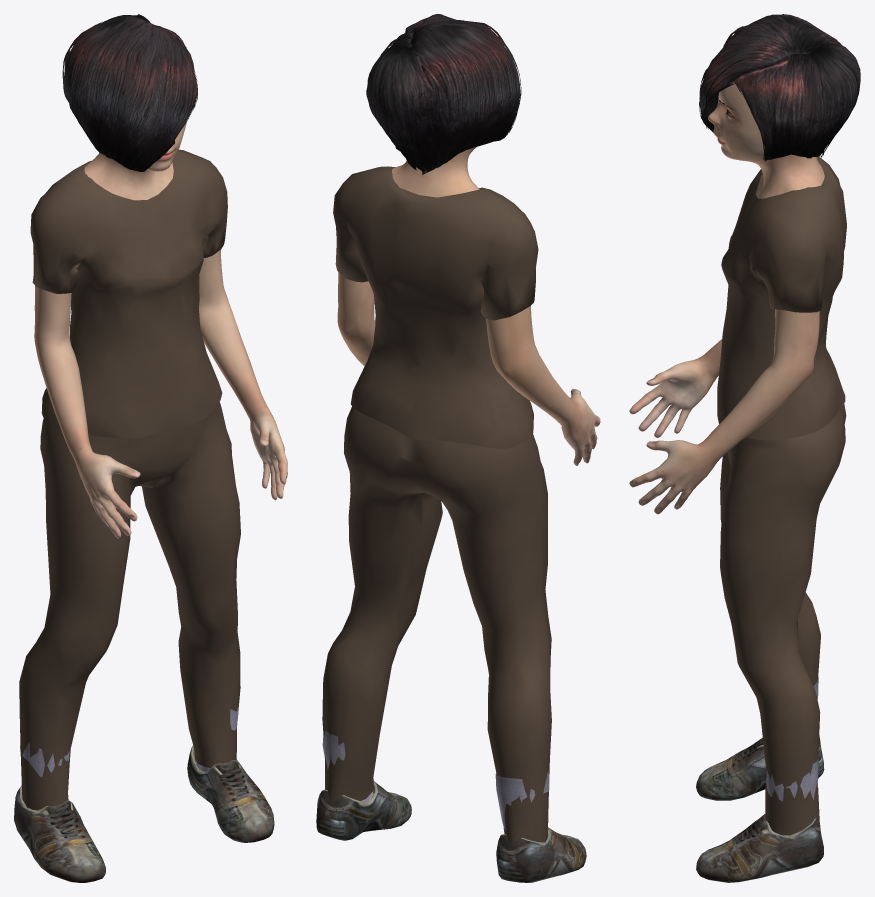
Rendered from cussac-anne-marie-9.glb.
3 views of the same model, side by side, from view 1: azimuth 30°, elevation 25°; view 2: azimuth 150°, elevation 25°; view 3: azimuth 270°, elevation 25° (orthographic). The views are drawn at different scales.
Visible parts, largest first — view 1: Human.female_kidsuit01.001, Human.001, Human.bob01.001, Human.shoes02.001; view 2: Human.female_kidsuit01.001, Human.bob01.001, Human.001, Human.shoes02.001; view 3: Human.female_kidsuit01.001, Human.001, Human.bob01.001, Human.shoes02.001.
Boxes of the visible parts, x1,y1,x2,y2 form: Human.female_kidsuit01.001: (19,149,240,810); Human.001: (34,120,287,538); Human.bob01.001: (62,14,197,171); Human.shoes02.001: (14,705,274,882); Human.female_kidsuit01.001: (322,166,551,845); Human.bob01.001: (366,14,521,174); Human.001: (337,147,600,465); Human.shoes02.001: (316,730,586,882); Human.female_kidsuit01.001: (717,156,846,835); Human.001: (629,83,824,514); Human.bob01.001: (699,14,860,161); Human.shoes02.001: (696,677,824,882).
Bounding box in the file's own units: 0.3823 × 1.3 × 0.3371.
Materials: 7 (7 with a texture image).
